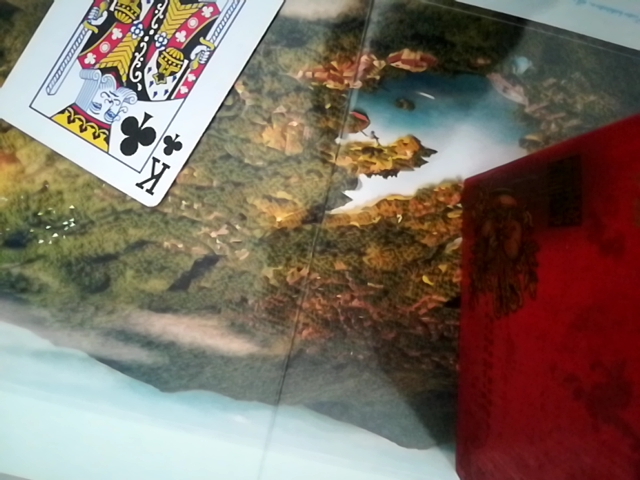mh k: (0, 0, 304, 218)
